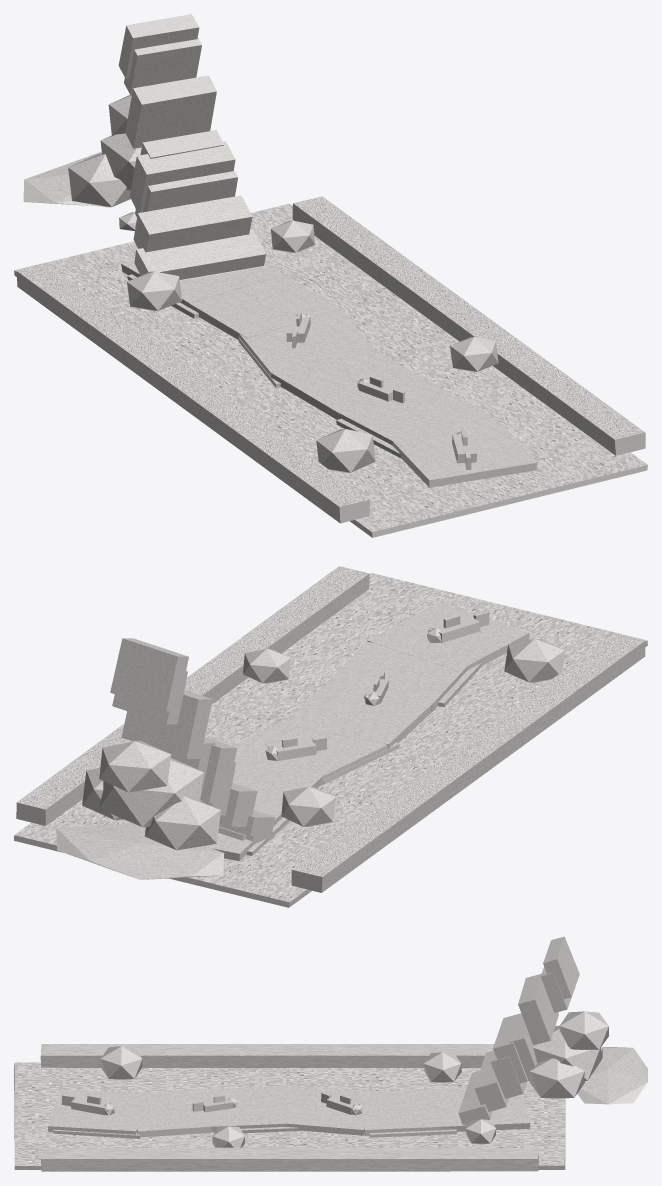
The model's file is bethlehem_stream_fish_alive_v2.glb.
3 views of the same model, one above another, from view 1: azimuth 30°, elevation 25°; view 2: azimuth 150°, elevation 25°; view 3: azimuth 270°, elevation 25° (orthographic). The views are drawn at different scales.
Visible parts, largest first — view 1: StreamBed, Bank_0, Bank_1, Stream_Sheet_0_Outline, Stream_Sheet_2_Outline, Stream_Sheet_4_Outline, Stream_Sheet_1_Outline, Waterfall_Sheet_1_Outline, Waterfall_Sheet_3_Outline, Stream_Sheet_3_Outline, Waterfall_Sheet_4_Outline, Waterfall_Sheet_2_Outline (+13 smaller); view 2: StreamBed, Bank_0, Bank_1, Foam_Splash, Stream_Sheet_2_Outline, Stream_Sheet_0_Outline, Stream_Sheet_1_Outline, Waterfall_Sheet_0_Outline, Stream_Sheet_3_Outline, Waterfall_Sheet_1_Outline, WF_Rock_0, WF_Rock_3 (+15 smaller); view 3: StreamBed, Bank_1, Bank_0, Stream_Sheet_4_Outline, Stream_Sheet_1_Outline, Stream_Sheet_2_Outline, Stream_Sheet_0_Outline, Foam_Splash, Stream_Sheet_3_Outline, Stream_Sheet_5_Outline, Waterfall_Sheet_1_Outline, WF_Rock_2 (+18 smaller).
Boxes of the visible parts, bbox=[...] form: StreamBed: bbox=[14, 203, 647, 537]; Bank_0: bbox=[16, 263, 370, 523]; Bank_1: bbox=[292, 196, 645, 455]; Stream_Sheet_0_Outline: bbox=[387, 417, 537, 487]; Stream_Sheet_2_Outline: bbox=[271, 344, 431, 419]; Stream_Sheet_4_Outline: bbox=[182, 275, 341, 339]; Stream_Sheet_1_Outline: bbox=[330, 378, 493, 446]; Waterfall_Sheet_1_Outline: bbox=[125, 75, 216, 148]; Waterfall_Sheet_3_Outline: bbox=[133, 195, 252, 252]; Stream_Sheet_3_Outline: bbox=[238, 310, 374, 376]; Waterfall_Sheet_4_Outline: bbox=[134, 229, 265, 279]; Waterfall_Sheet_2_Outline: bbox=[129, 140, 235, 212]; StreamBed: bbox=[14, 573, 647, 907]; Bank_0: bbox=[291, 633, 645, 892]; Bank_1: bbox=[16, 566, 369, 825]; Foam_Splash: bbox=[56, 823, 224, 879]; Stream_Sheet_2_Outline: bbox=[283, 680, 436, 748]; Stream_Sheet_0_Outline: bbox=[367, 602, 529, 671]; Stream_Sheet_1_Outline: bbox=[324, 641, 473, 711]; Waterfall_Sheet_0_Outline: bbox=[110, 638, 188, 711]; Stream_Sheet_3_Outline: bbox=[232, 719, 387, 784]; Waterfall_Sheet_1_Outline: bbox=[121, 690, 212, 758]; WF_Rock_0: bbox=[99, 758, 203, 827]; WF_Rock_3: bbox=[99, 741, 171, 792]; StreamBed: bbox=[14, 1062, 565, 1169]; Bank_1: bbox=[41, 1147, 538, 1171]; Bank_0: bbox=[40, 1044, 494, 1067]; Stream_Sheet_4_Outline: bbox=[355, 1089, 452, 1135]; Stream_Sheet_1_Outline: bbox=[124, 1089, 225, 1137]; Stream_Sheet_2_Outline: bbox=[203, 1085, 299, 1131]; Stream_Sheet_0_Outline: bbox=[48, 1089, 149, 1134]; Foam_Splash: bbox=[577, 1047, 647, 1104]; Stream_Sheet_3_Outline: bbox=[286, 1085, 364, 1135]; Stream_Sheet_5_Outline: bbox=[432, 1087, 529, 1131]; Waterfall_Sheet_1_Outline: bbox=[518, 974, 558, 1045]; WF_Rock_2: bbox=[529, 1058, 584, 1098].
Bounding box in the file's own units: 3.56 × 2.71 × 8.29.
Materials: 19 (19 with a texture image).
